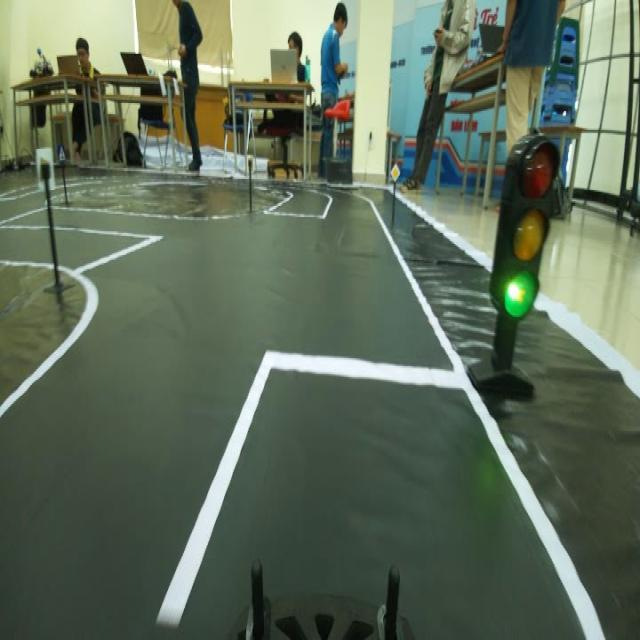trafficlight: (482, 124, 568, 335)
